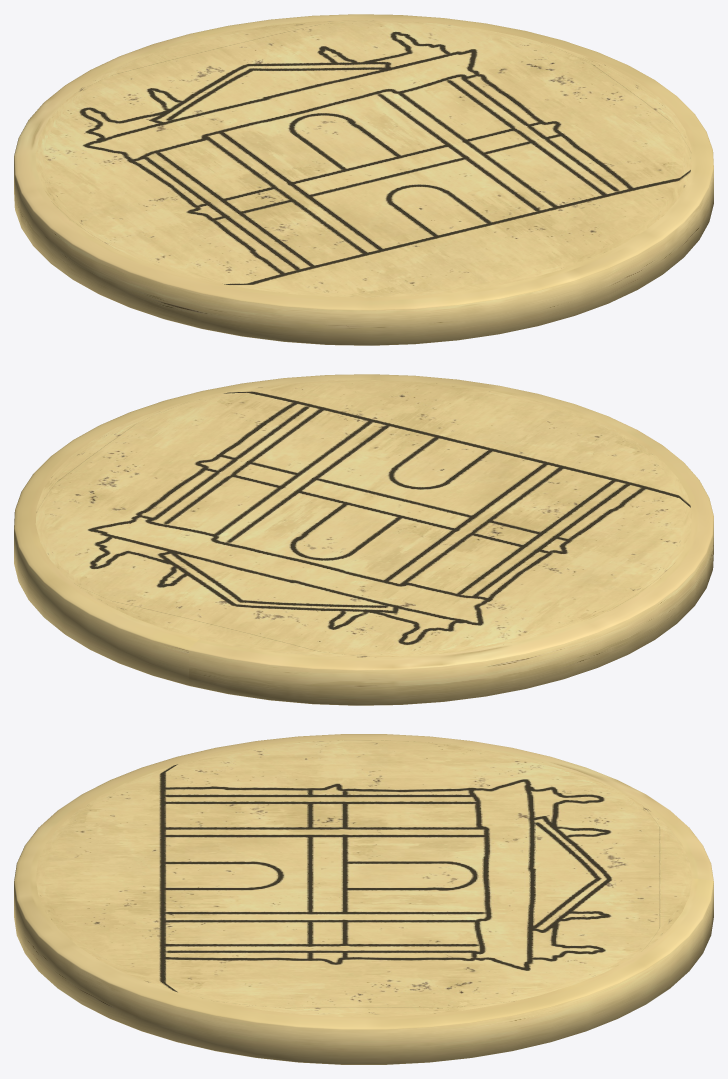
File: Shrine Token.fbx
3 views of the same model, one above another, from view 1: azimuth 30°, elevation 25°; view 2: azimuth 150°, elevation 25°; view 3: azimuth 270°, elevation 25° (orthographic).
Parts seen in each view (by area): view 1: Cylinder; view 2: Cylinder; view 3: Cylinder.
Boxes of the visible parts, x1,y1,x2,y2 form: Cylinder: (14,14,713,345); Cylinder: (14,374,713,705); Cylinder: (14,734,713,1064).
Size of the model in its own units: 200 by 14.64 by 200.
